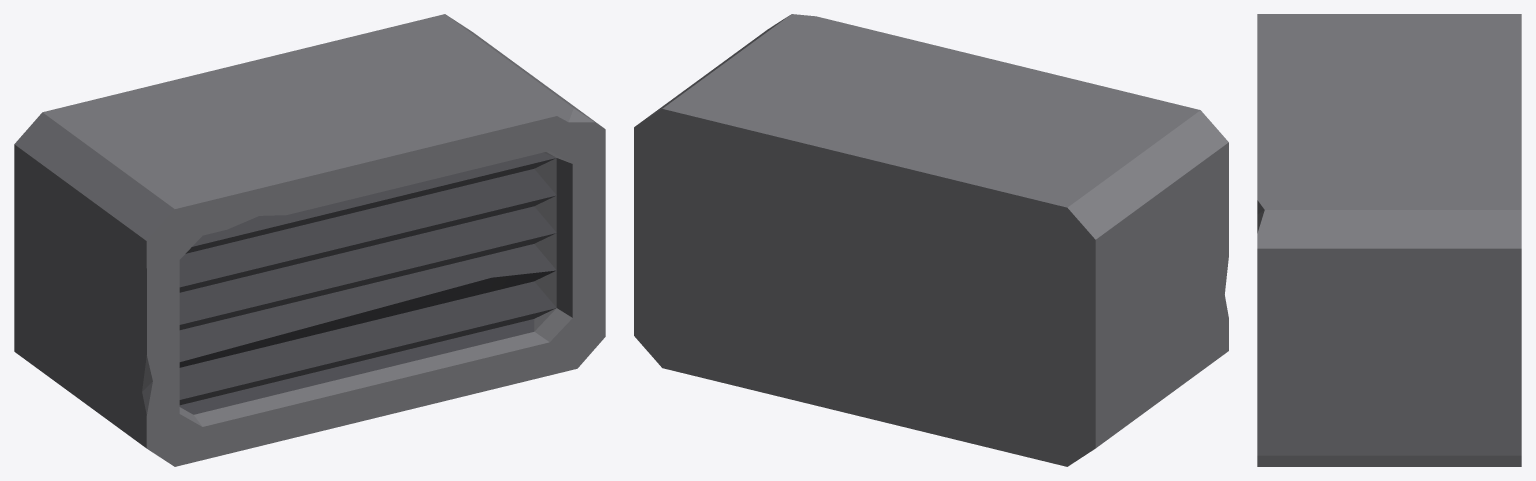
The model's file is SM_Prop_AirVent_Small_01.glb.
3 renders of one model, left to right at view 1: azimuth 30°, elevation 25°; view 2: azimuth 150°, elevation 25°; view 3: azimuth 270°, elevation 25°, orthographic.
Visible parts, largest first — view 1: SM_Prop_AirVent_Small_01; view 2: SM_Prop_AirVent_Small_01; view 3: SM_Prop_AirVent_Small_01.
Part boxes in pixels (x1,y1,x2,y2): SM_Prop_AirVent_Small_01: (14,14,605,466); SM_Prop_AirVent_Small_01: (634,14,1228,466); SM_Prop_AirVent_Small_01: (1257,14,1521,466).
Size of the model in its own units: 0.9679 by 0.5196 by 0.484.
1 material, 1 textured.
